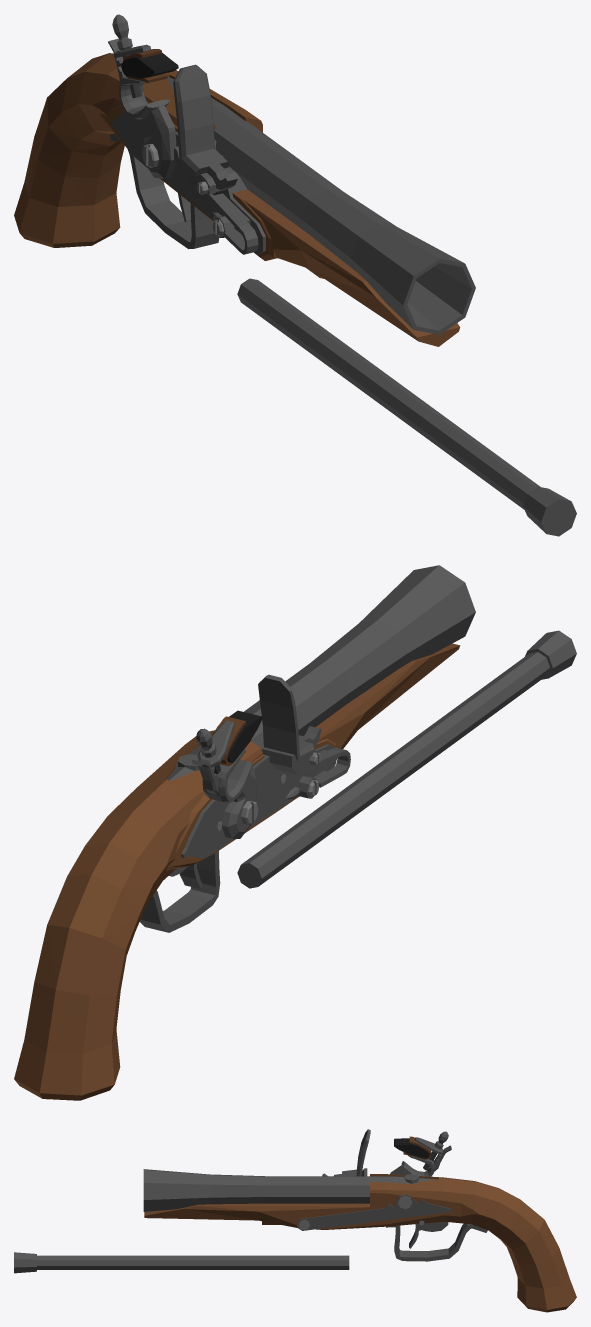
The model's file is Dragon Blunderbuss 1.fbx.
The picture shows the model from 3 angles, top to bottom: view 1: azimuth 30°, elevation 25°; view 2: azimuth 150°, elevation 25°; view 3: azimuth 270°, elevation 25°; orthographic projection. The views are drawn at different scales.
Parts seen in each view (by area): view 1: Dragon Blunderbuss 1, Dragon Blunderbuss 1 Ram Stick 1, Dragon Blunderbuss 1 Hammer 1, Dragon Blunderbuss 1 Frizzen 1; view 2: Dragon Blunderbuss 1, Dragon Blunderbuss 1 Ram Stick 1, Dragon Blunderbuss 1 Hammer 1, Dragon Blunderbuss 1 Frizzen 1; view 3: Dragon Blunderbuss 1, Dragon Blunderbuss 1 Ram Stick 1, Dragon Blunderbuss 1 Hammer 1, Dragon Blunderbuss 1 Frizzen 1, Dragon Blunderbuss 1 Trigger 1.
Part boxes in pixels (bbox=[...]): Dragon Blunderbuss 1: bbox=[14, 53, 475, 346]; Dragon Blunderbuss 1 Ram Stick 1: bbox=[237, 278, 576, 536]; Dragon Blunderbuss 1 Hammer 1: bbox=[108, 14, 178, 179]; Dragon Blunderbuss 1 Frizzen 1: bbox=[173, 64, 237, 195]; Dragon Blunderbuss 1: bbox=[14, 565, 475, 1100]; Dragon Blunderbuss 1 Ram Stick 1: bbox=[237, 630, 576, 888]; Dragon Blunderbuss 1 Hammer 1: bbox=[192, 710, 262, 838]; Dragon Blunderbuss 1 Frizzen 1: bbox=[258, 674, 321, 762]; Dragon Blunderbuss 1: bbox=[143, 1168, 576, 1312]; Dragon Blunderbuss 1 Ram Stick 1: bbox=[14, 1252, 349, 1273]; Dragon Blunderbuss 1 Hammer 1: bbox=[390, 1131, 451, 1176]; Dragon Blunderbuss 1 Frizzen 1: bbox=[322, 1129, 370, 1176]; Dragon Blunderbuss 1 Trigger 1: bbox=[409, 1221, 448, 1248].
Size of the model in its own units: 5.84 by 15.31 by 49.03.
